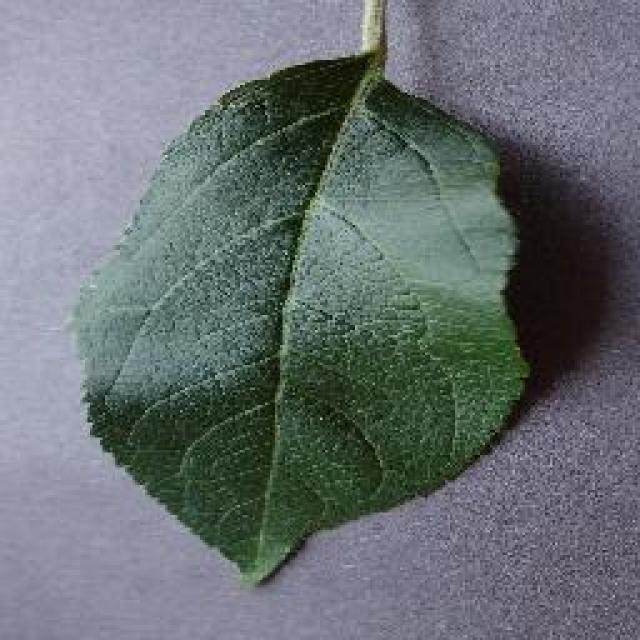apple healthy: (67, 0, 535, 588)
